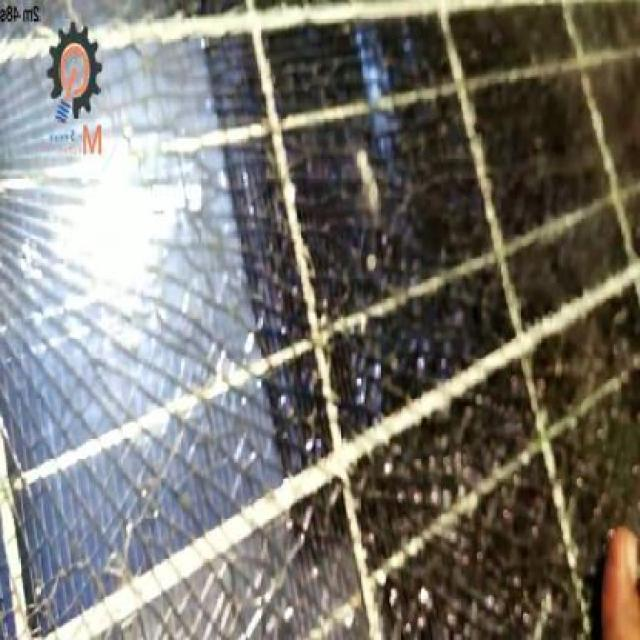cracked: (2, 0, 635, 639)
